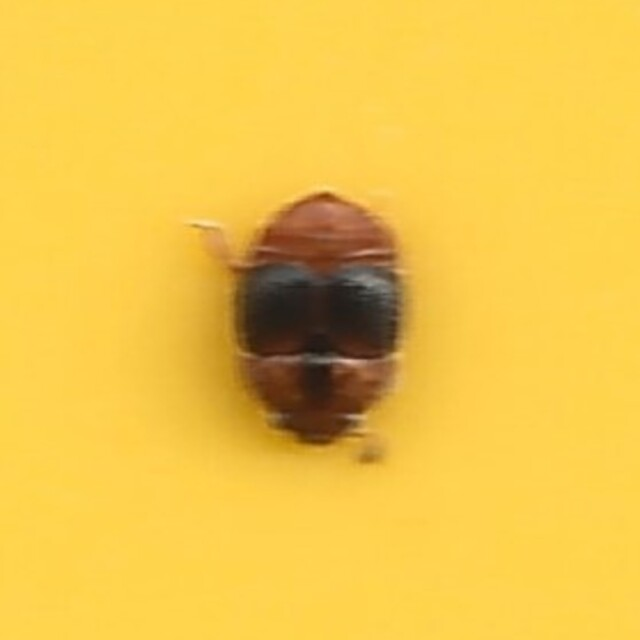Coleoptera: (229, 183, 411, 457)
